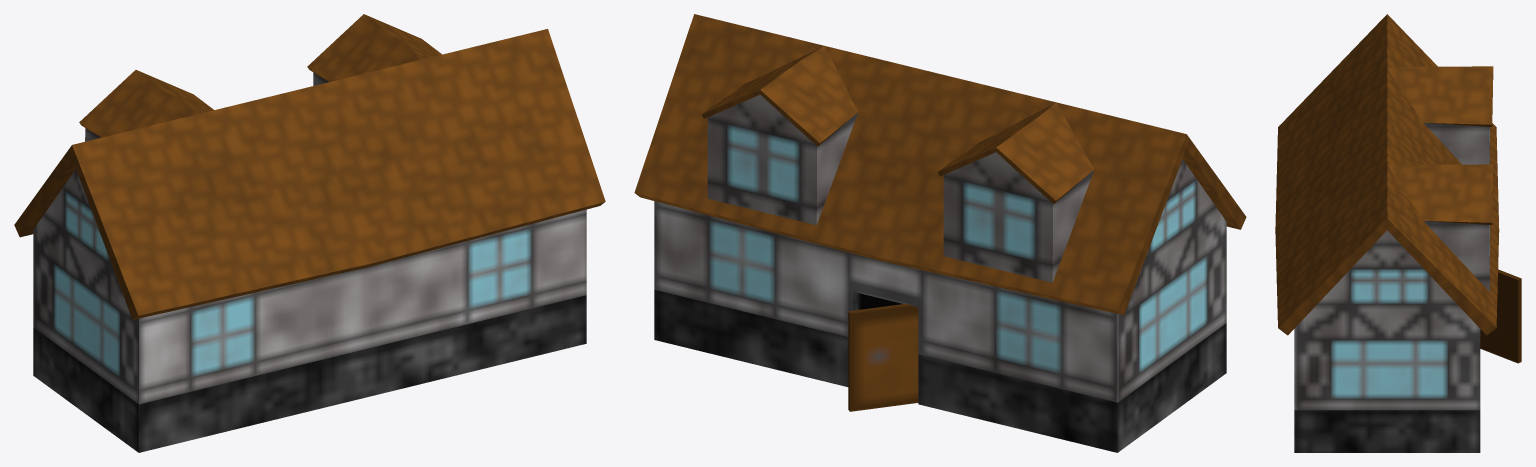
File: Med Barn.fbx
3 views of the same model, side by side, from view 1: azimuth 30°, elevation 25°; view 2: azimuth 150°, elevation 25°; view 3: azimuth 270°, elevation 25° (orthographic). The views are drawn at different scales.
Parts seen in each view (by area): view 1: Cube.003; view 2: Cube.003, Cube.007; view 3: Cube.003, Cube.007.
Part boxes in pixels (x1,y1,x2,y2): Cube.003: [14, 14, 605, 452]; Cube.003: [634, 14, 1246, 452]; Cube.007: [848, 304, 918, 411]; Cube.003: [1275, 14, 1499, 452]; Cube.007: [1480, 269, 1521, 363].
Size of the model in its own units: 450 by 884 by 487.
